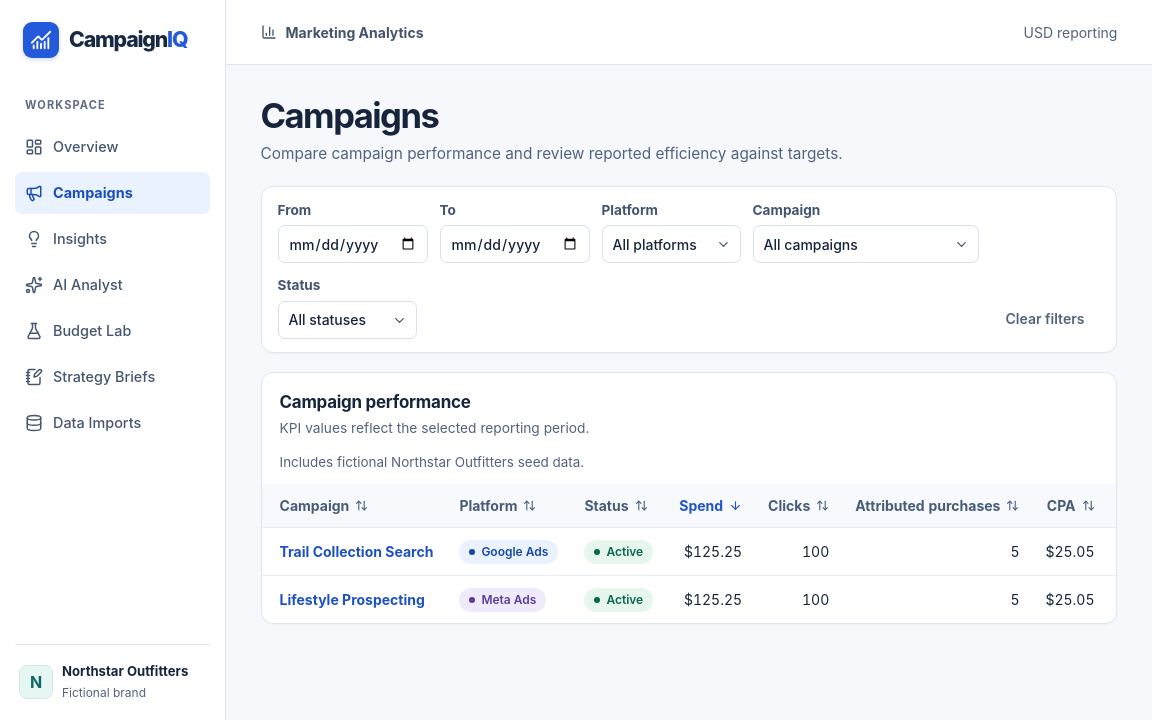
campaigns › requests backend sorting and displays the returned order
Expected: the row that starts with "Trail Collection Search" is shown, [280,543,433,560]
Click the button with aria-label "Sort by Spend".
click(711, 505)  # box [679,495,742,516]
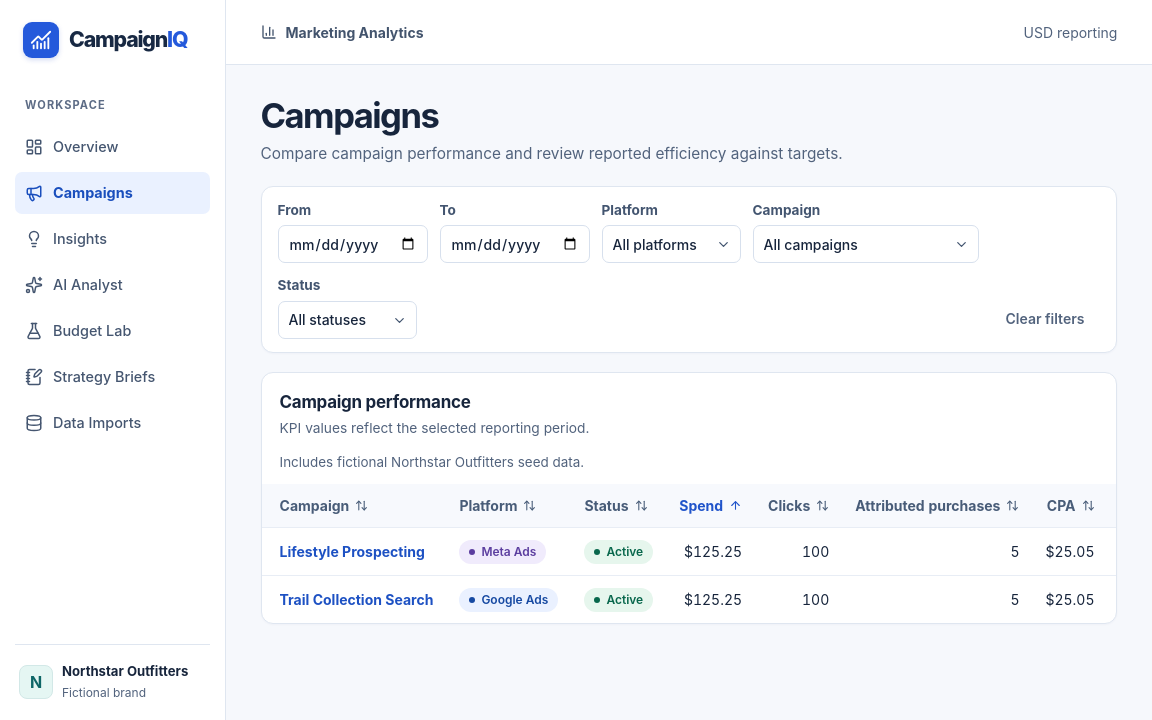
Now the row that starts with "Lifestyle Prospecting" is shown, box [280,543,425,560]
